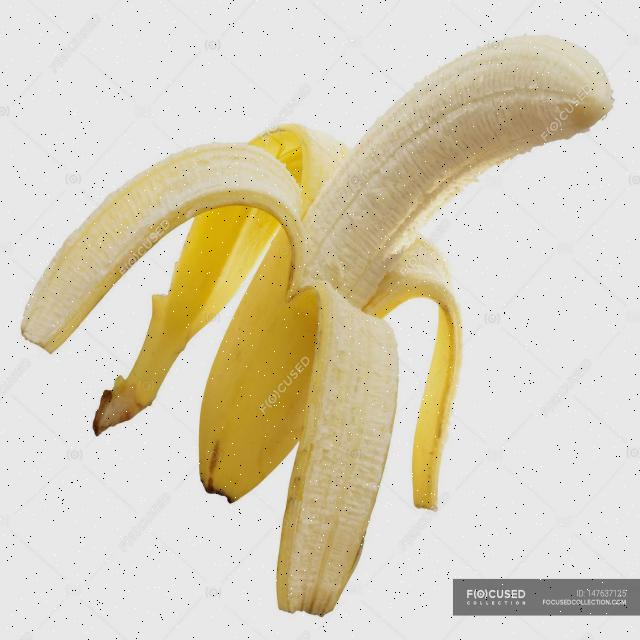Banana: (28, 34, 614, 534)
